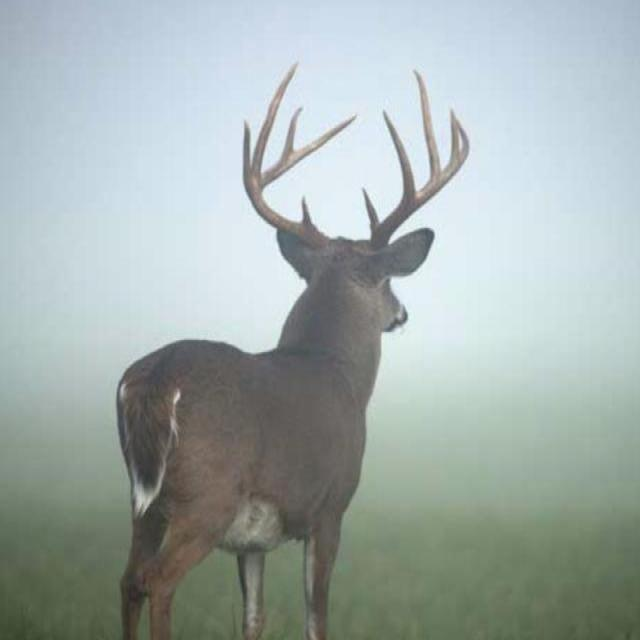deer: (105, 63, 477, 637)
